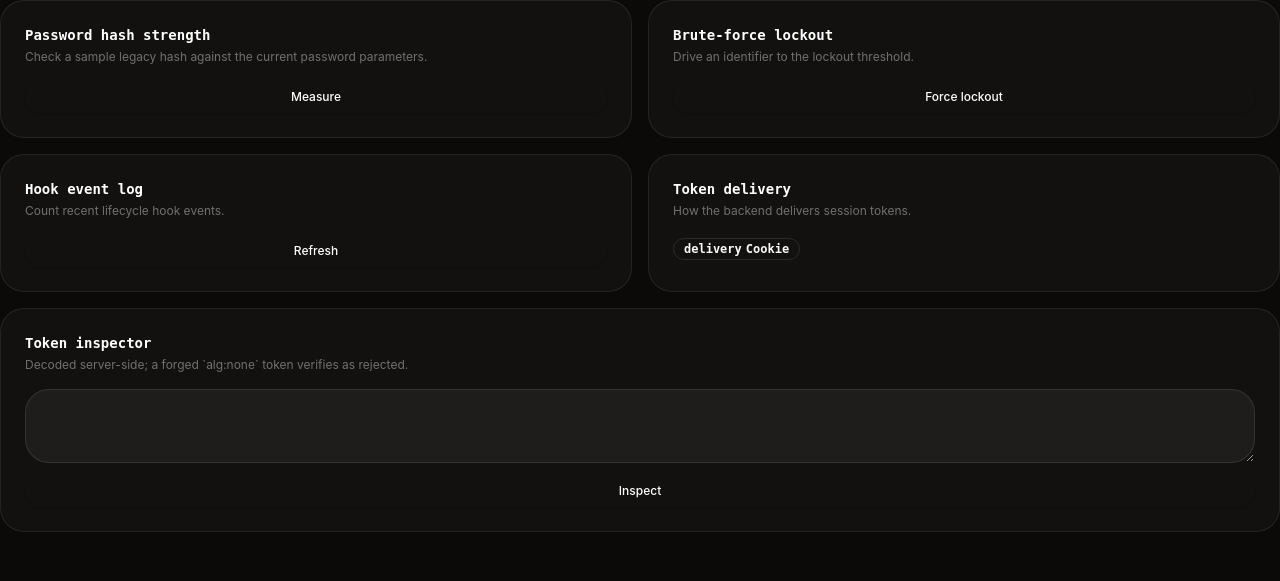
Test: DiagnosticsMatrix — delivery + token inspector › shows an error when the inspect route responds non-ok
The width and height of the screenshot is (1280, 581).
Type "x" into the text box named "JWT to inspect".
click(640, 426); type("x")  # box 25,389 -> 1255,463
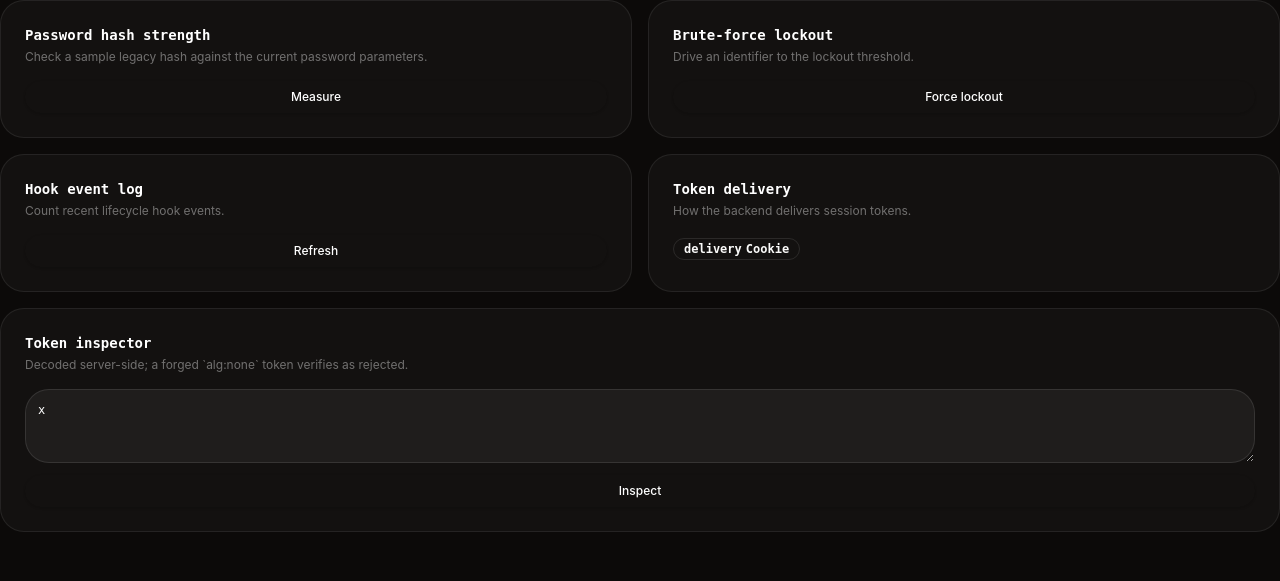
Click the button "Inspect".
click(640, 491)  # box 25,475 -> 1255,507
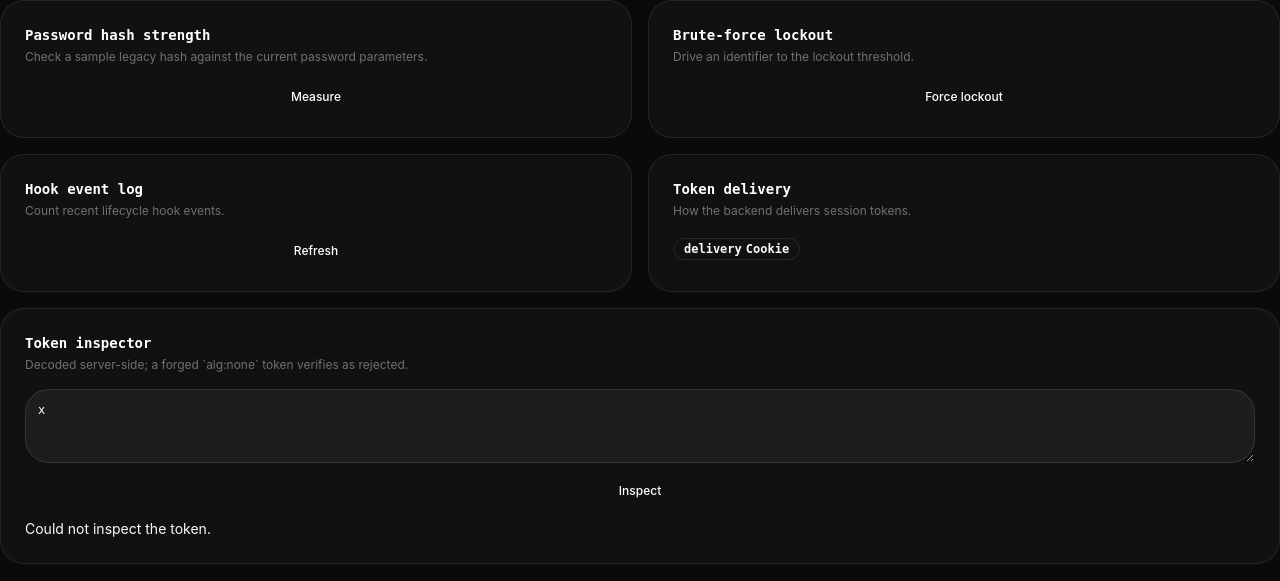
Expected: the text "Could not inspect the token." is shown, 25,520 -> 211,537
